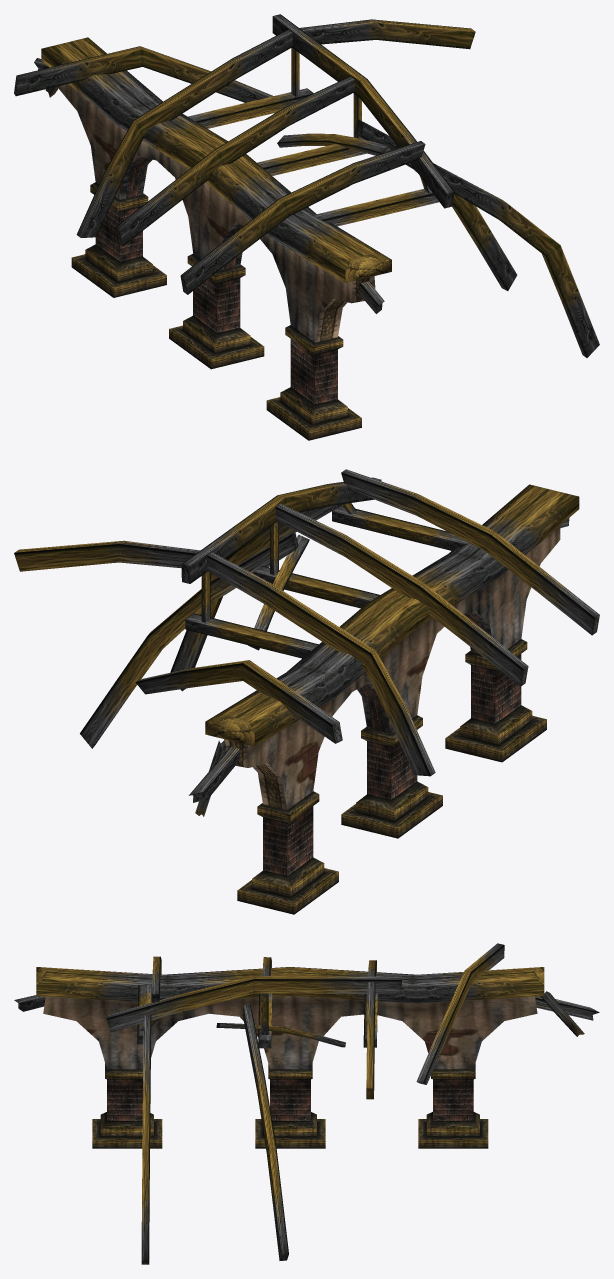
File: CB_ARENA_BUILDING02.obj
The picture shows the model from 3 angles, top to bottom: view 1: azimuth 30°, elevation 25°; view 2: azimuth 150°, elevation 25°; view 3: azimuth 270°, elevation 25°; orthographic projection. The views are drawn at different scales.
Parts seen in each view (by area): view 1: rena_building02; view 2: rena_building02; view 3: rena_building02.
Boxes of the visible parts, <box> form: rena_building02: <box>14,14,599,440</box>; rena_building02: <box>14,469,599,914</box>; rena_building02: <box>14,943,599,1264</box>.
Size of the model in its own units: 1978 by 1208 by 2874.
